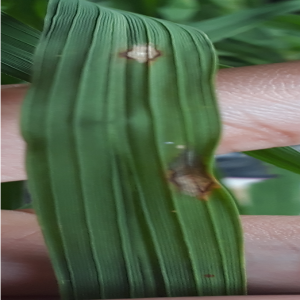Rice_Blast: (143, 136, 217, 209), (105, 29, 171, 80)
